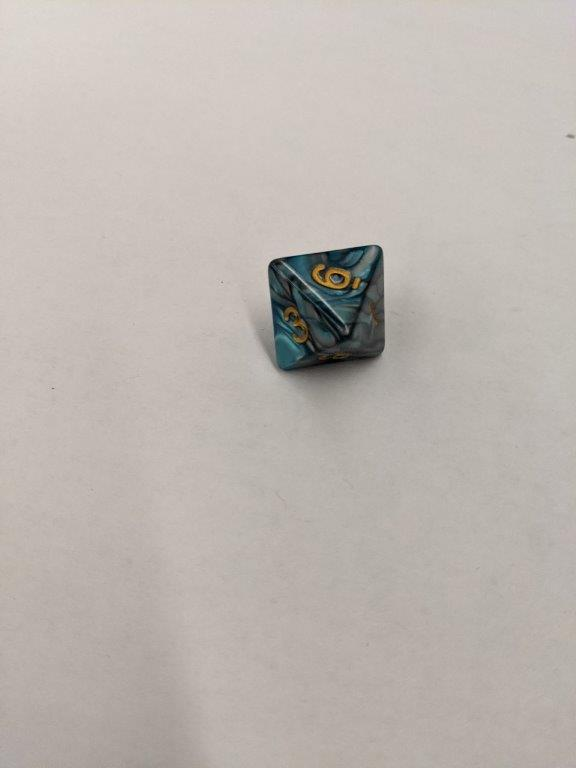d8-6: (268, 244, 386, 373)
